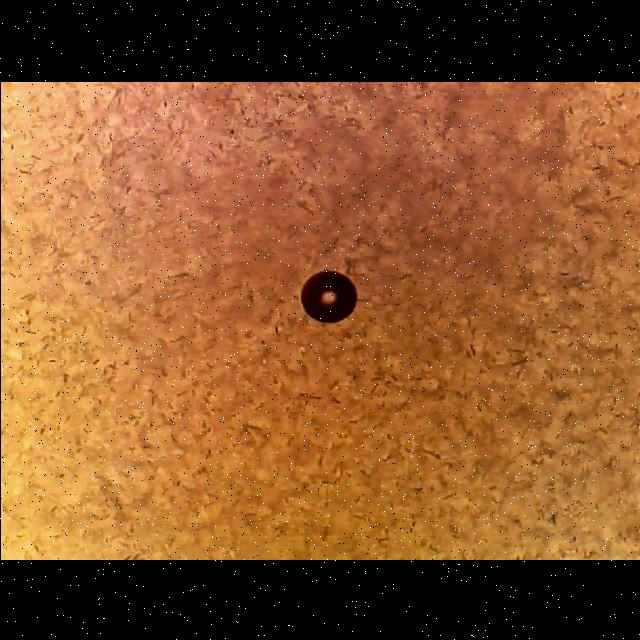microbeads: (297, 270, 361, 324)
